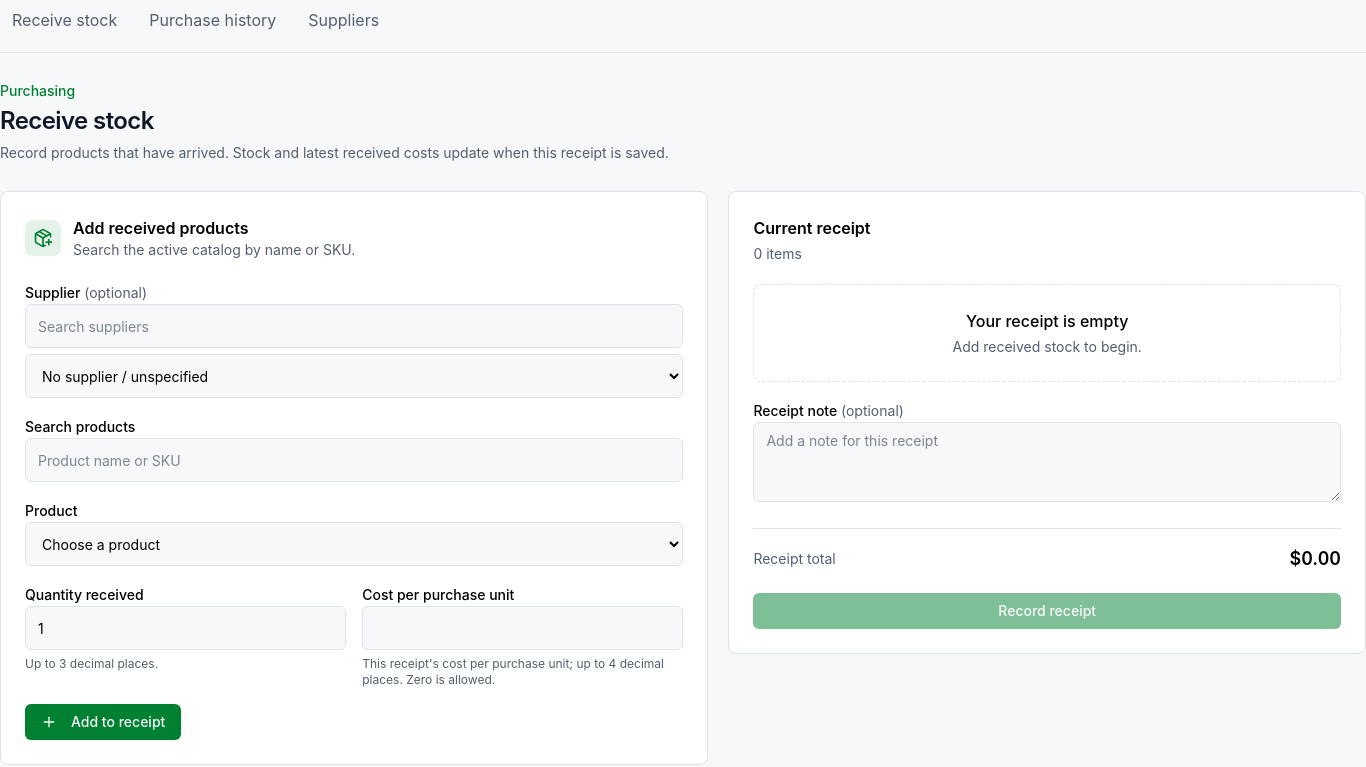
Scenario: purchasing receiving page › allows receiving without any suppliers and only offers active products
Select "Coffee Beans · SKU COF-1" in the dropdown labelled "Product". click: (354, 544)
box: [25,522,683,566]
(page scrolled)
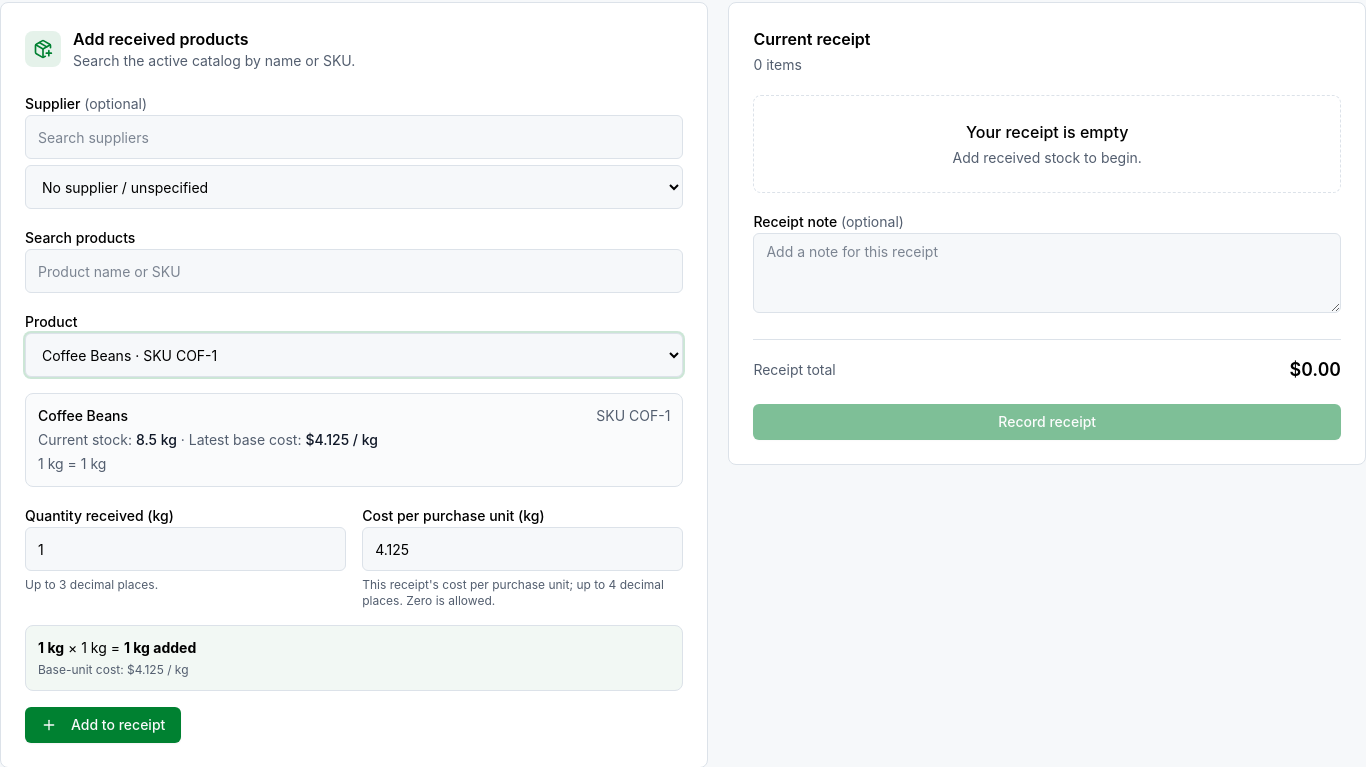
Expected: the field labelled "Cost per purchase unit" holds "4.125", [362,527,683,571]
Click the button "Add to receipt". click: (103, 725)
box: [25,707,181,743]
(page scrolled)
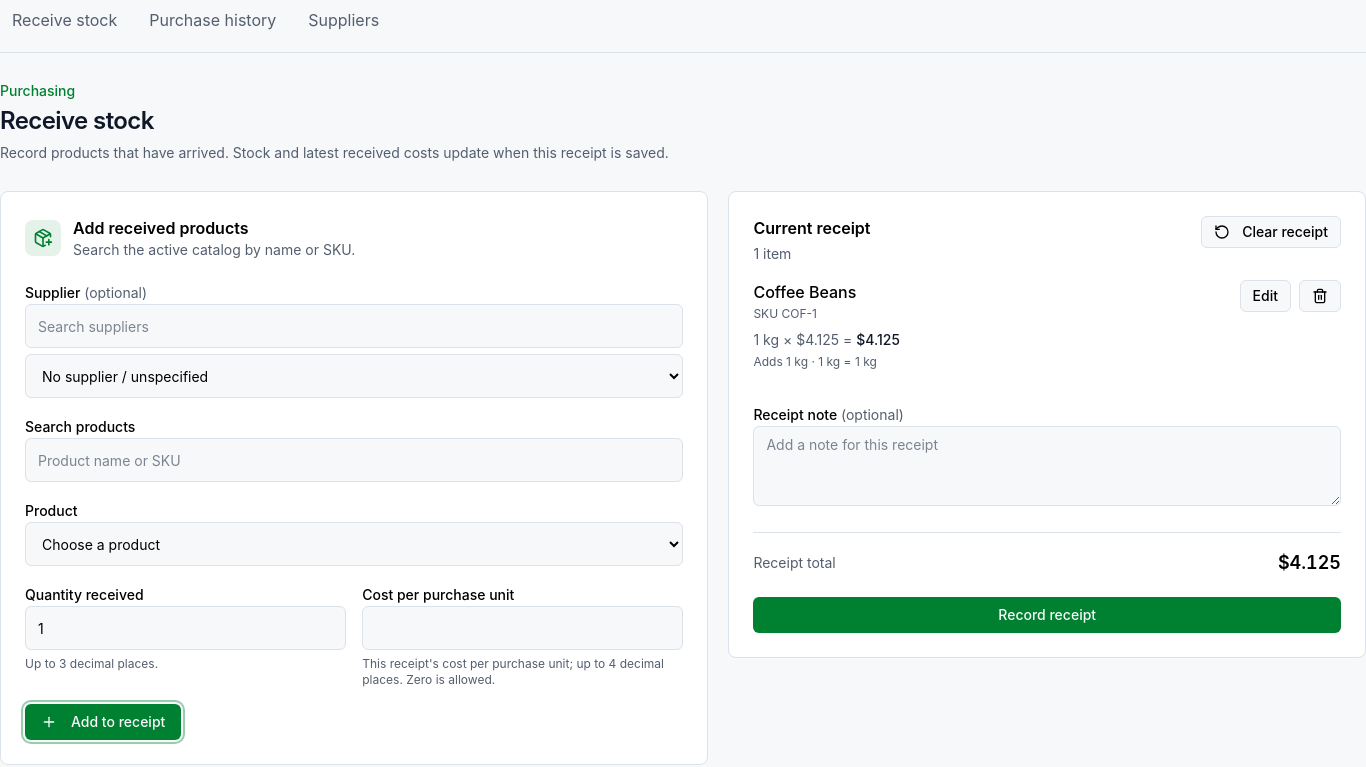
Click the button "Record receipt". click: (1047, 615)
box: [753,597,1341,633]
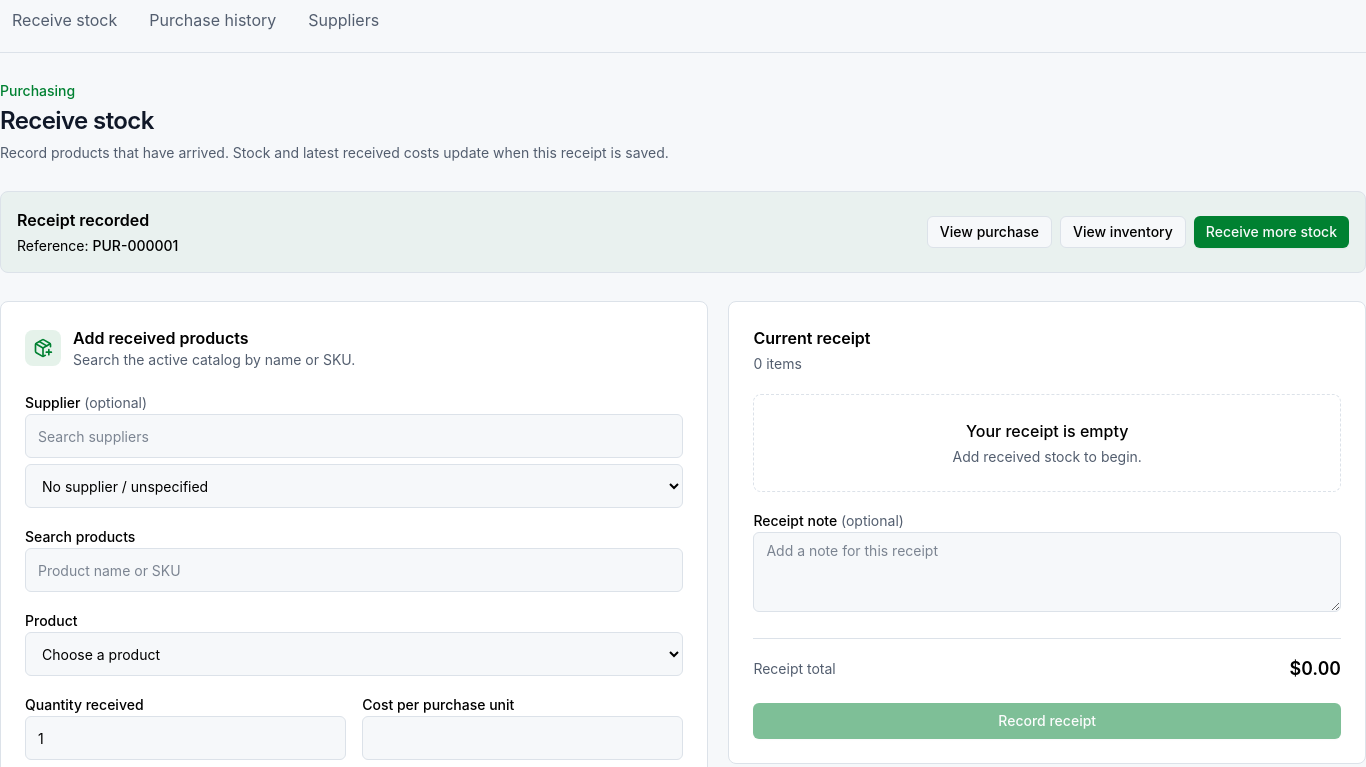
Expected: the text "PUR-000001" is shown, [92,237,178,254]
